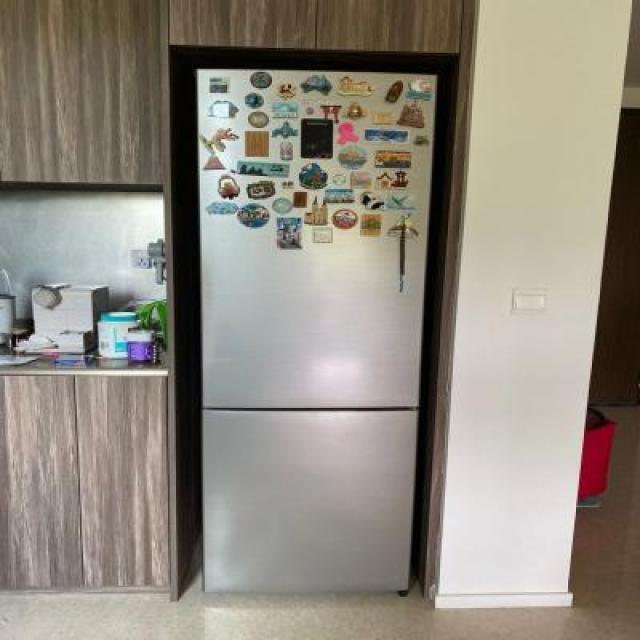refrigerator: (192, 69, 440, 597)
